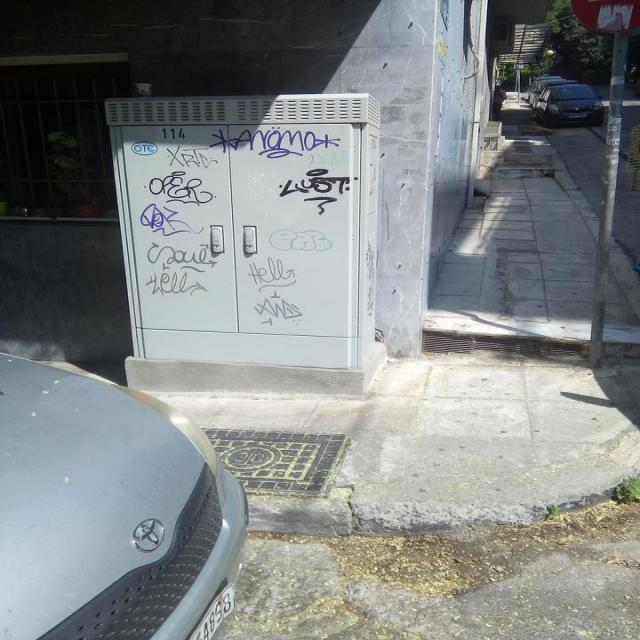nonspitting: (210, 126, 342, 159), (248, 258, 303, 326), (279, 168, 358, 215), (150, 172, 218, 206), (140, 203, 205, 237), (147, 243, 217, 273), (270, 229, 334, 252), (146, 272, 207, 296), (167, 146, 218, 169)
